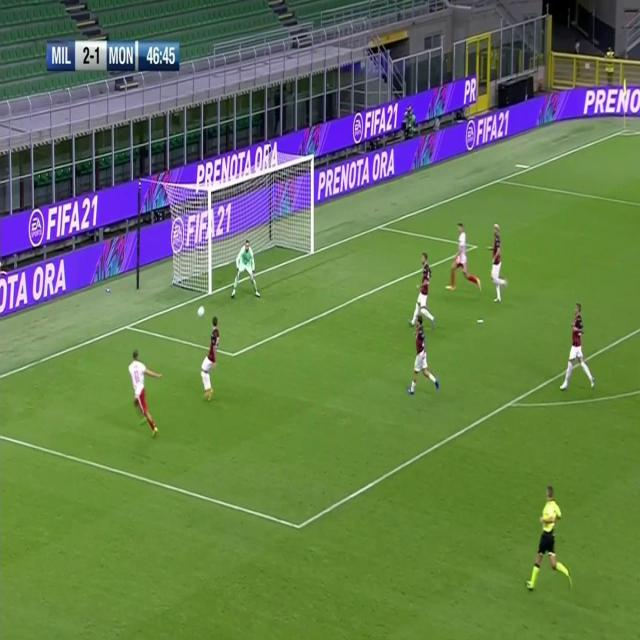ball: (196, 303, 206, 319)
goalkeeper: (231, 236, 261, 300)
player: (561, 301, 595, 393), (128, 344, 162, 436), (408, 318, 440, 401), (447, 222, 481, 297), (408, 248, 436, 331), (200, 316, 222, 406), (488, 220, 508, 305)
referee: (526, 486, 570, 603)
